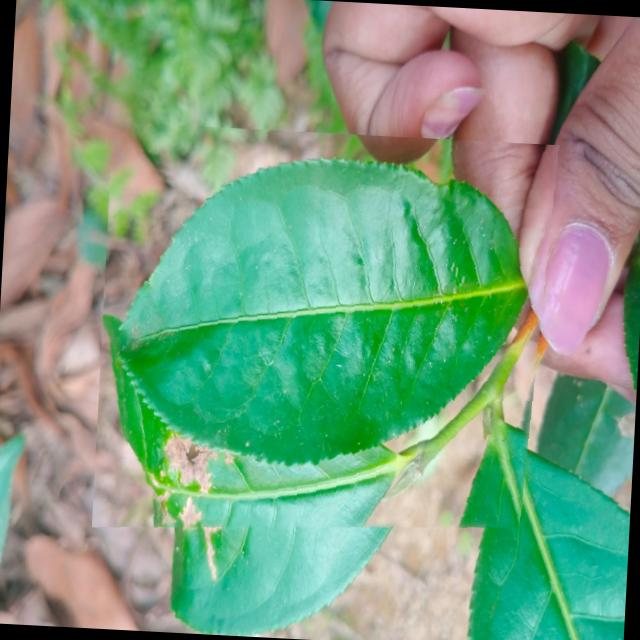Category D(7+ days, Not for Tea): (92, 121, 560, 551)
